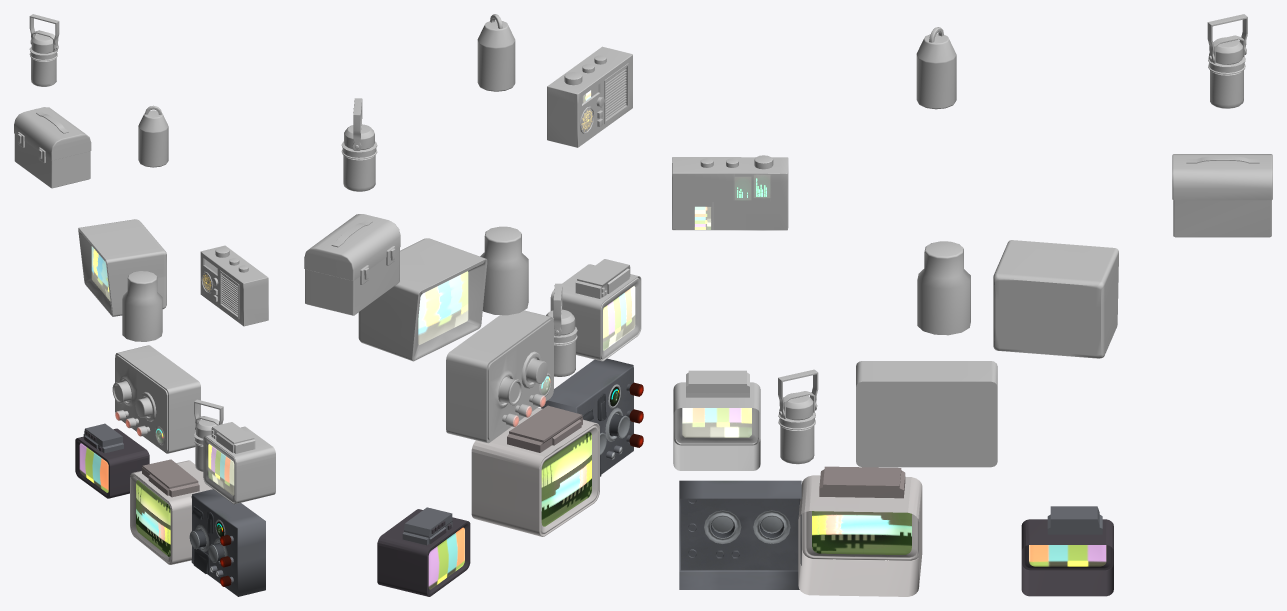
File: MiniMonitor3.fbx
3 renders of one model, left to right at view 1: azimuth 30°, elevation 25°; view 2: azimuth 150°, elevation 25°; view 3: azimuth 270°, elevation 25°, orthographic. The views are drawn at different scales.
Parts seen in each view (by area): view 1: polySurface59982_Computers02_0, polySurface59982_Computers02_0.001; view 2: polySurface59982_Computers02_0, polySurface59982_Computers02_0.001; view 3: polySurface59982_Computers02_0, polySurface59982_Computers02_0.001.
Part boxes in pixels (x1=…): polySurface59982_Computers02_0: x1=14, y1=46, x2=275, y2=596; polySurface59982_Computers02_0.001: x1=29, y1=14, x2=223, y2=471; polySurface59982_Computers02_0: x1=304, y1=46, x2=643, y2=596; polySurface59982_Computers02_0.001: x1=341, y1=14, x2=577, y2=376; polySurface59982_Computers02_0: x1=672, y1=55, x2=1272, y2=596; polySurface59982_Computers02_0.001: x1=778, y1=14, x2=1247, y2=464.
Bounding box in the file's own units: 396 × 2002 × 1943.
